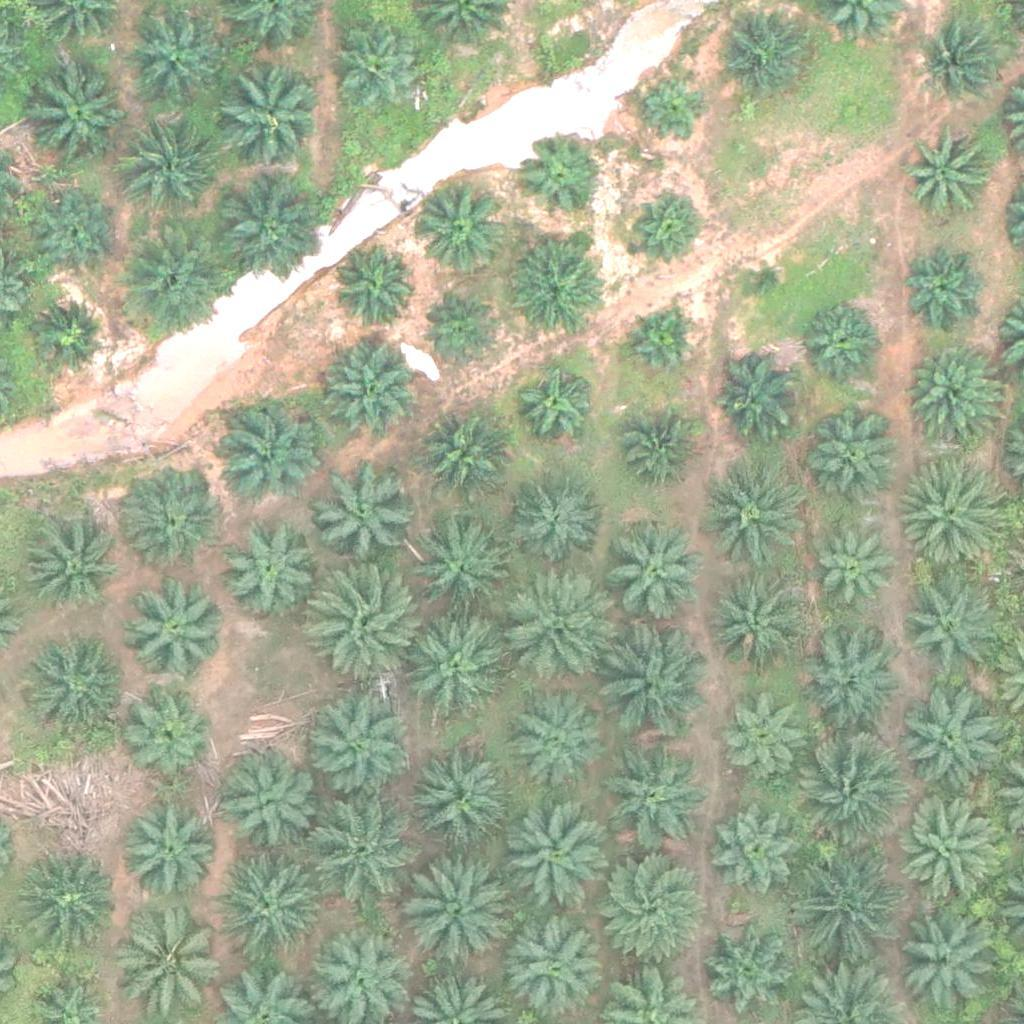Kelapa_Sawit: (498, 567, 611, 681), (18, 51, 131, 164), (117, 231, 230, 344), (206, 52, 319, 165), (590, 845, 703, 958), (497, 802, 610, 915), (208, 846, 321, 959), (791, 728, 903, 842), (788, 846, 900, 960), (595, 623, 707, 737), (111, 112, 223, 225), (210, 175, 322, 288), (898, 458, 1010, 571), (403, 851, 515, 964), (307, 796, 419, 909), (301, 686, 413, 799), (308, 566, 420, 679), (117, 909, 229, 1022), (502, 245, 602, 346), (904, 344, 1004, 445), (805, 412, 905, 513), (603, 525, 703, 626), (315, 462, 415, 563), (213, 401, 313, 502), (121, 466, 221, 567), (21, 515, 121, 616), (902, 579, 1002, 680), (900, 698, 1000, 799), (800, 636, 900, 737), (697, 916, 797, 1017), (505, 915, 605, 1016), (504, 686, 604, 787), (403, 616, 503, 717), (407, 749, 507, 850), (218, 753, 318, 854), (123, 801, 223, 902), (126, 576, 226, 677), (22, 636, 122, 737), (122, 4, 222, 104), (714, 10, 814, 110), (703, 467, 803, 567), (318, 348, 418, 448), (217, 517, 317, 617), (902, 806, 1002, 906), (896, 912, 996, 1012), (710, 797, 810, 897), (706, 571, 806, 671), (601, 748, 701, 848), (506, 468, 606, 568), (413, 523, 513, 623), (17, 855, 117, 955), (26, 291, 114, 379), (335, 22, 423, 110), (901, 245, 989, 333), (808, 532, 896, 620), (714, 350, 802, 438), (722, 692, 810, 780), (907, 129, 994, 218), (32, 187, 119, 275), (920, 20, 1007, 108), (519, 133, 606, 221), (418, 413, 505, 501), (614, 414, 701, 502), (798, 291, 885, 379), (413, 182, 500, 270), (331, 245, 418, 333), (126, 688, 213, 776), (516, 367, 591, 443), (622, 307, 697, 383), (628, 190, 703, 266), (639, 70, 714, 146), (426, 298, 501, 373), (739, 251, 789, 301)
